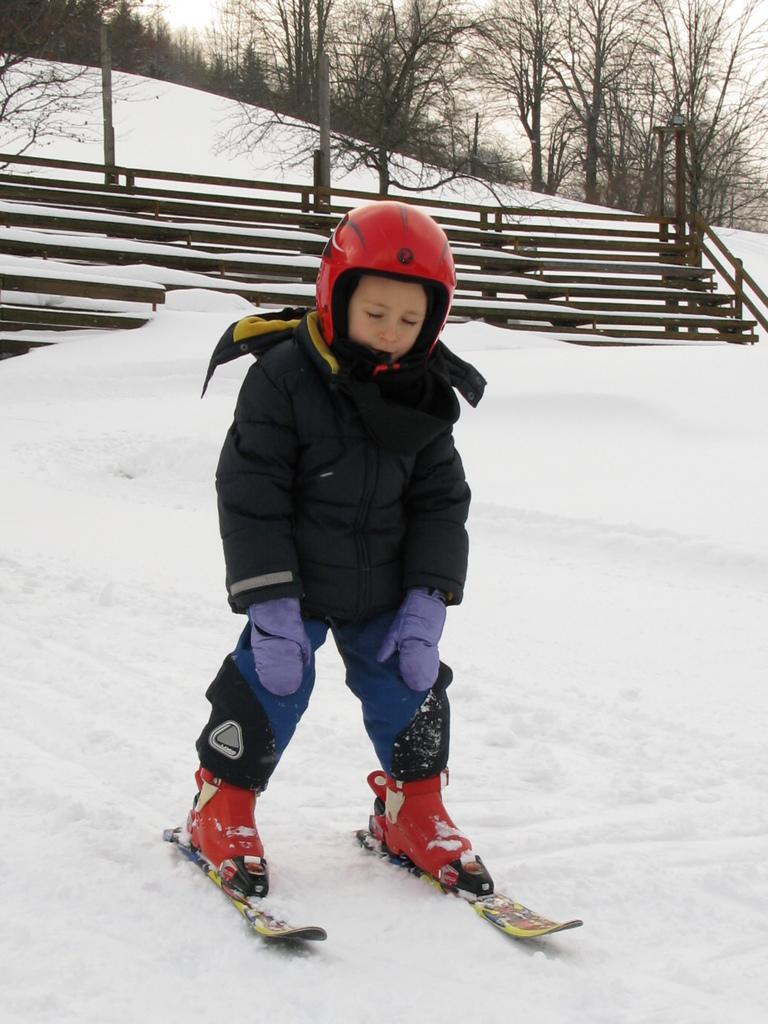Sem Máscara: (343, 280, 417, 362)
